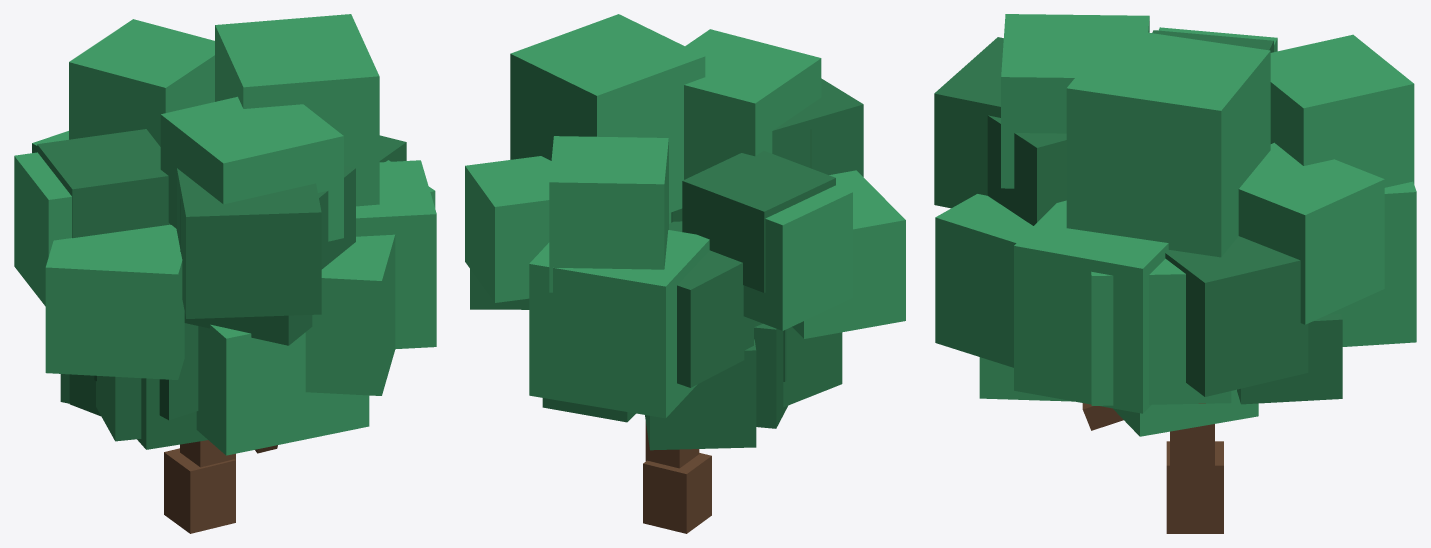
File: treeBroad.glb
3 renders of one model, left to right at view 1: azimuth 30°, elevation 25°; view 2: azimuth 150°, elevation 25°; view 3: azimuth 270°, elevation 25°, orthographic. The views are drawn at different scales.
Parts seen in each view (by area): view 1: treeBroad_leafMid, treeBroad_leafDark, treeBroad_bark; view 2: treeBroad_leafMid, treeBroad_leafDark, treeBroad_bark; view 3: treeBroad_leafMid, treeBroad_leafDark, treeBroad_bark.
Part boxes in pixels (x1,y1,x2,y2): treeBroad_leafMid: [14, 14, 436, 455]; treeBroad_leafDark: [37, 129, 406, 449]; treeBroad_bark: [164, 440, 277, 533]; treeBroad_leafMid: [465, 14, 905, 418]; treeBroad_leafDark: [470, 78, 863, 450]; treeBroad_bark: [643, 422, 711, 533]; treeBroad_leafMid: [935, 14, 1416, 436]; treeBroad_leafDark: [934, 30, 1342, 404]; treeBroad_bark: [1082, 403, 1223, 533].
Size of the model in its own units: 10.28 by 10.99 by 9.66.
